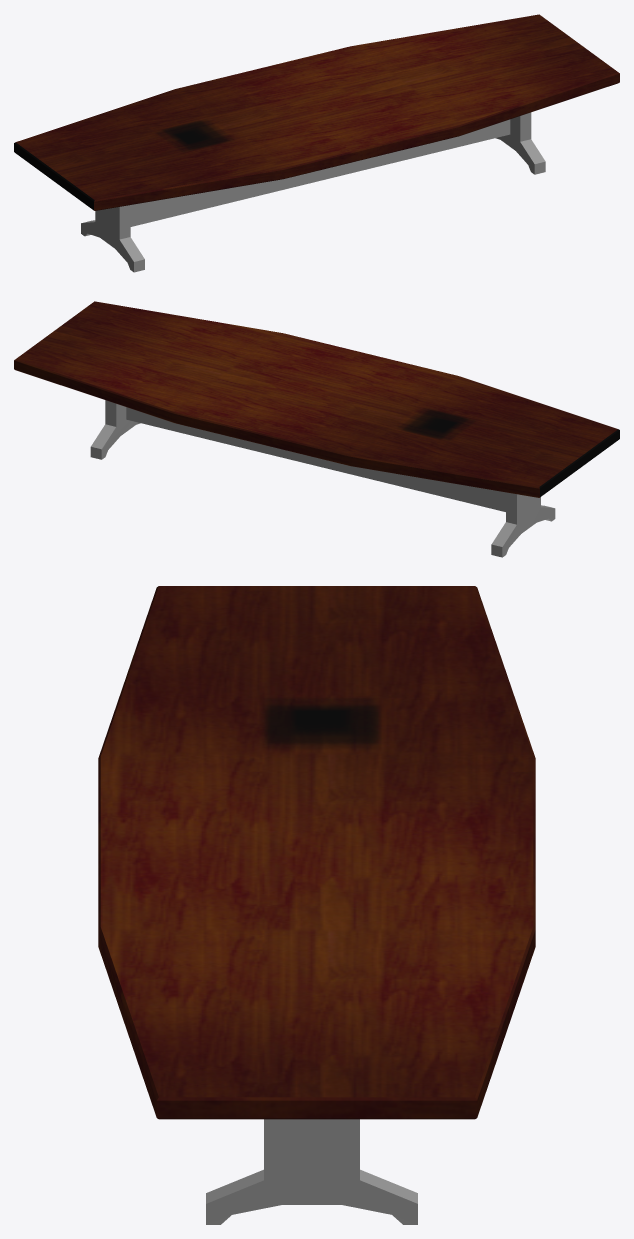
The model's file is zhuozi001.obj.
3 views of the same model, one above another, from view 1: azimuth 30°, elevation 25°; view 2: azimuth 150°, elevation 25°; view 3: azimuth 270°, elevation 25° (orthographic). The views are drawn at different scales.
Parts seen in each view (by area): view 1: zhuozi001; view 2: zhuozi001; view 3: zhuozi001.
Part boxes in pixels (box(x1,y1,x2,y2)): zhuozi001: box(14, 14, 619, 272); zhuozi001: box(14, 301, 619, 557); zhuozi001: box(98, 586, 535, 1224).
Bounding box in the file's own units: 500 × 85 × 180.
Materials: 2 (1 with a texture image).
